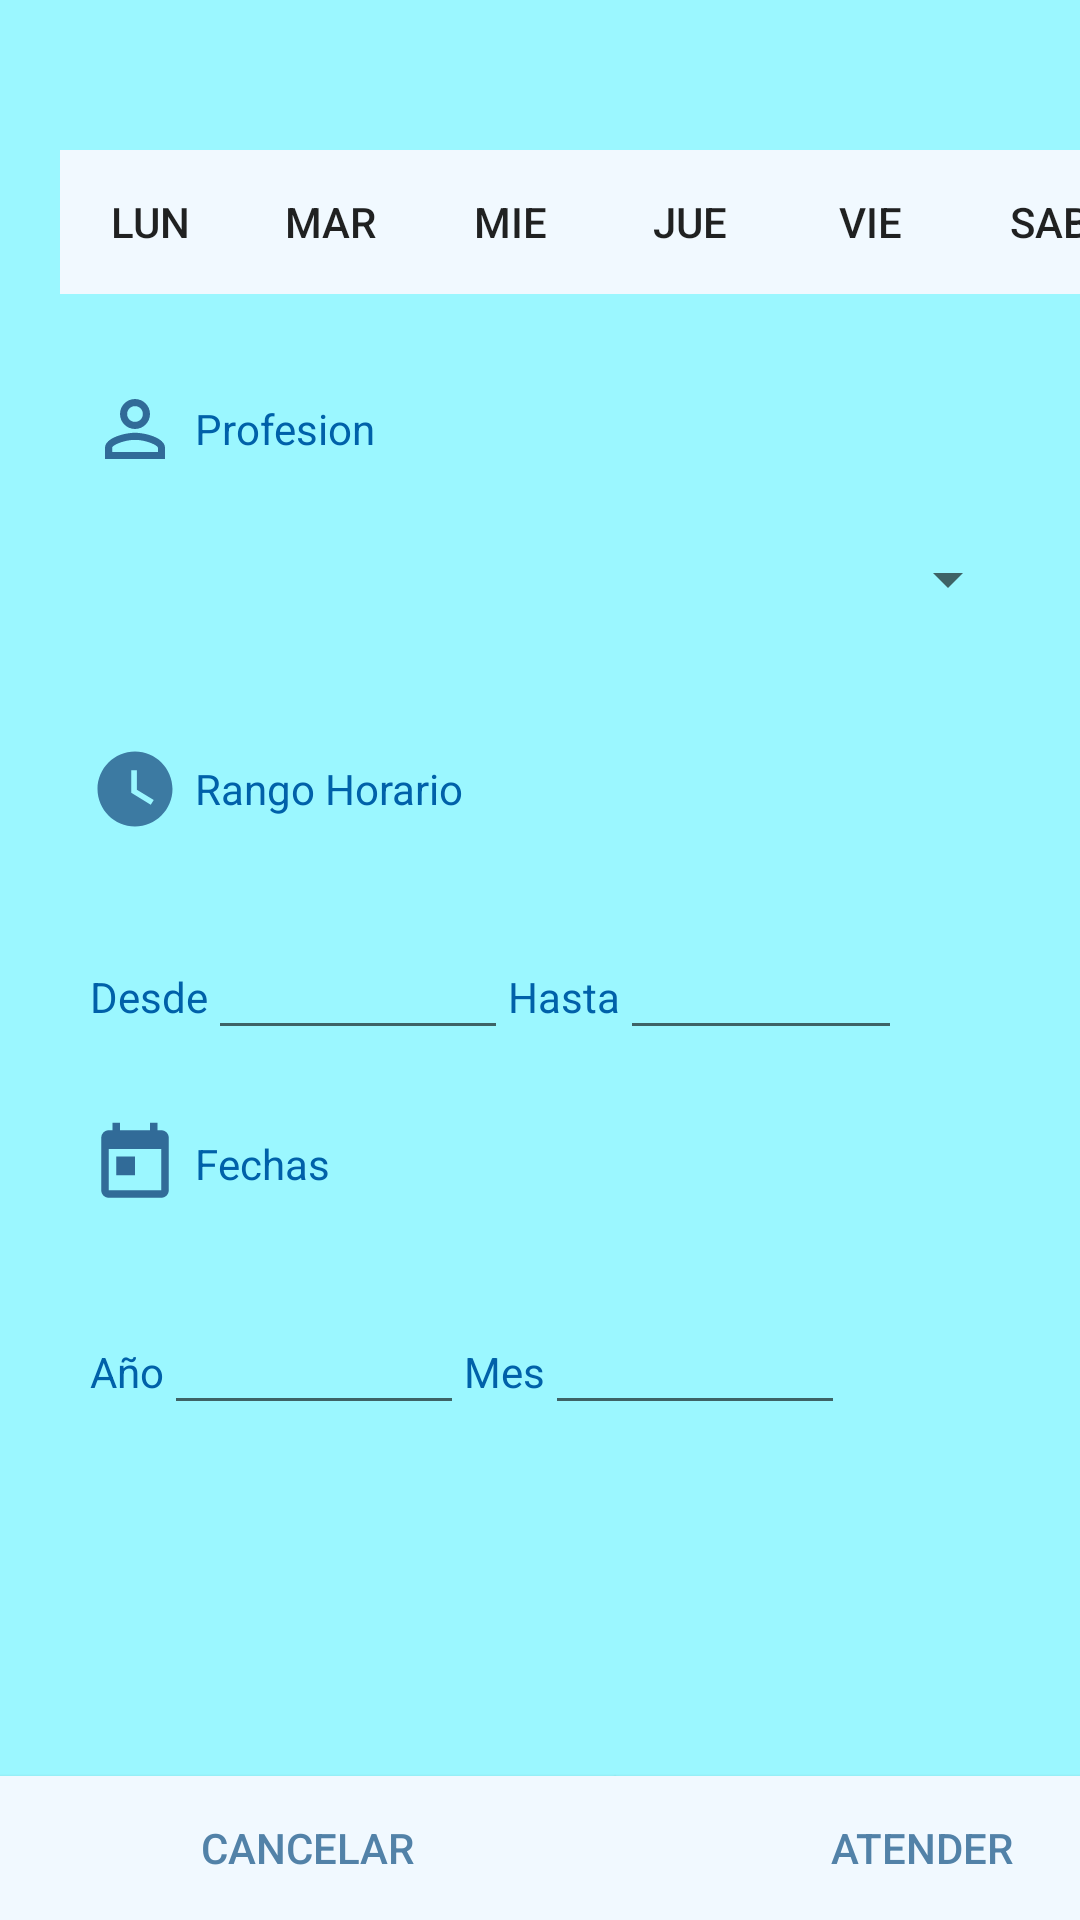

Named icons in this screenshot (1080x1920) and their centers, point (x, y):
date: point (135, 1160)
user: point (135, 429)
